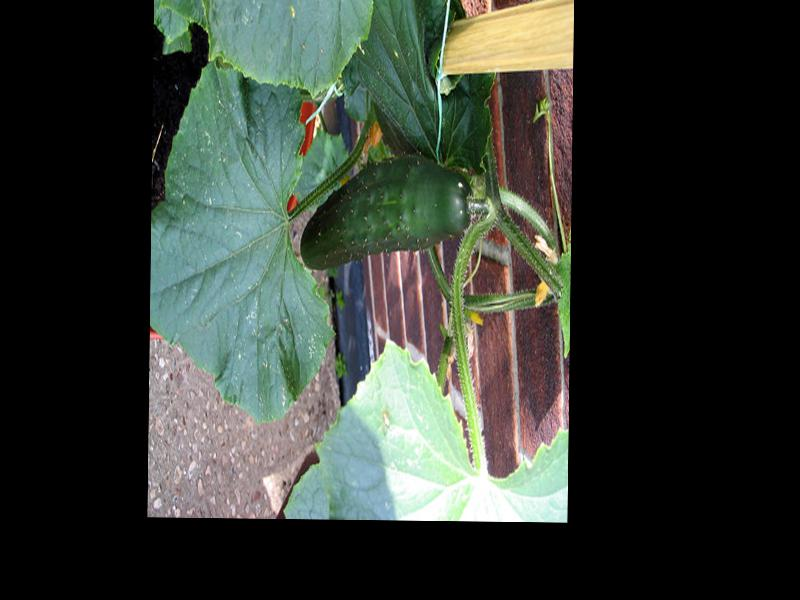Cucumber: (299, 155, 471, 275)
